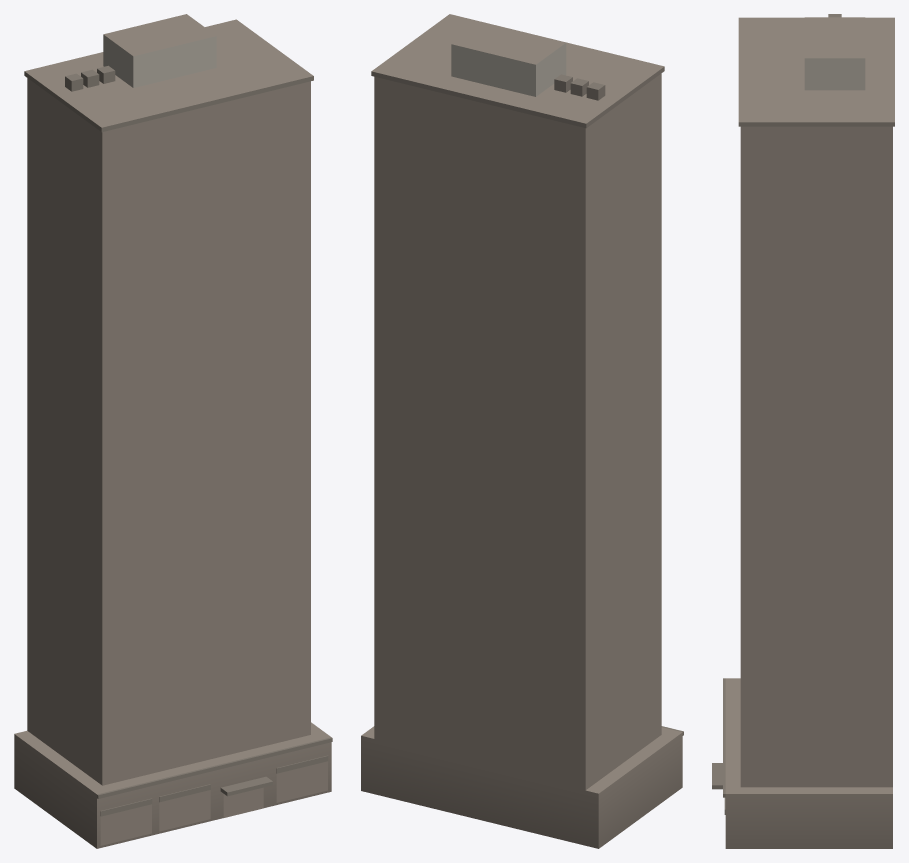
Rendered from tower_curtain_b.glb.
The picture shows the model from 3 angles, left to right: view 1: azimuth 30°, elevation 25°; view 2: azimuth 150°, elevation 25°; view 3: azimuth 270°, elevation 25°; orthographic projection.
Visible parts, largest first — view 1: tower_curtain_b; view 2: tower_curtain_b; view 3: tower_curtain_b.
Boxes of the visible parts, box(x1,y1,x2,y2) form: tower_curtain_b: box(14, 14, 332, 848); tower_curtain_b: box(361, 14, 683, 848); tower_curtain_b: box(712, 14, 894, 848).
Size of the model in its own units: 32.4 by 98.4 by 21.65.
